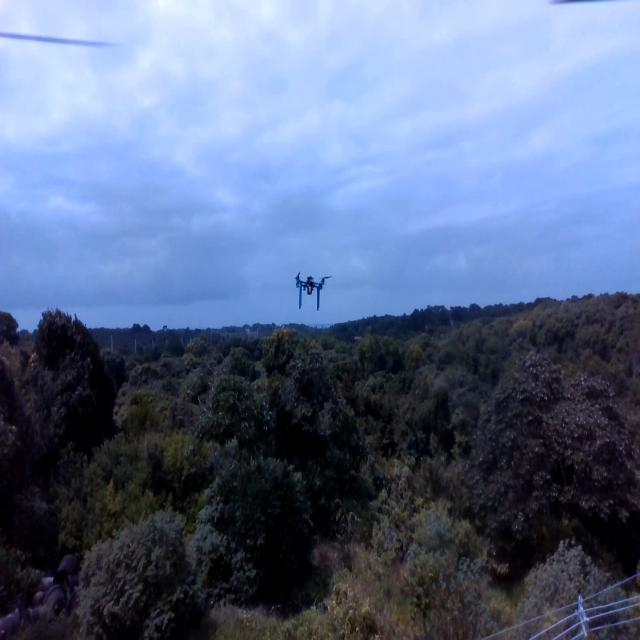-uav-: (288, 265, 335, 317)
